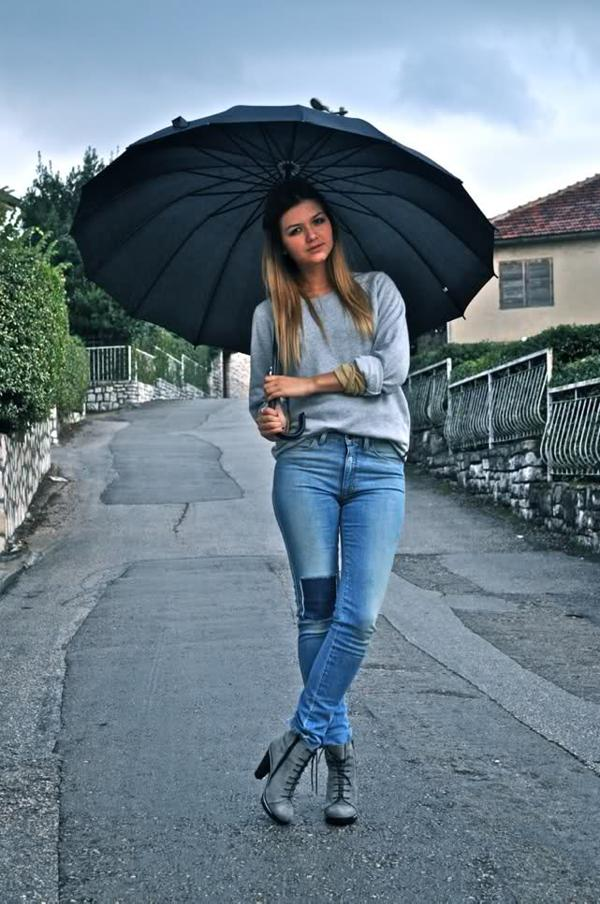person: (249, 176, 413, 823)
